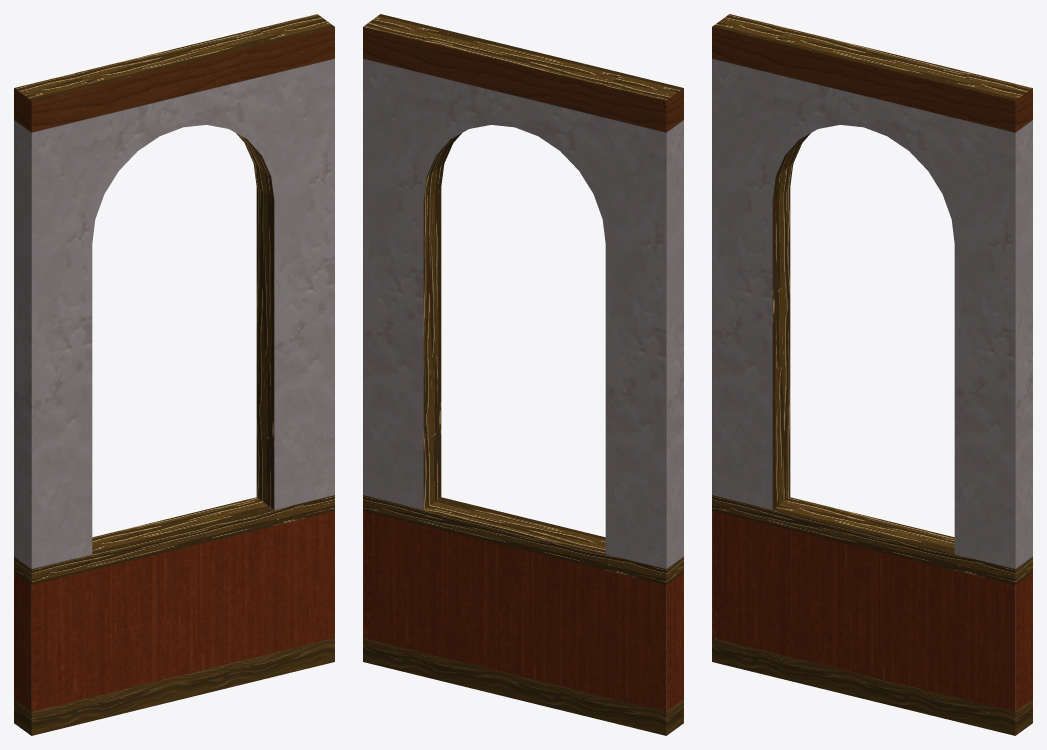
The model's file is SM_Wall_Window_Stone.fbx.
3 renders of one model, left to right at view 1: azimuth 30°, elevation 25°; view 2: azimuth 150°, elevation 25°; view 3: azimuth 330°, elevation 25°, orthographic.
Visible parts, largest first — view 1: SM_Wall_Window_Stone; view 2: SM_Wall_Window_Stone; view 3: SM_Wall_Window_Stone.
Boxes of the visible parts, bbox=[...] form: SM_Wall_Window_Stone: bbox=[14, 14, 334, 735]; SM_Wall_Window_Stone: bbox=[363, 14, 683, 735]; SM_Wall_Window_Stone: bbox=[712, 14, 1032, 735].
Bounding box in the file's own units: 2 × 4 × 0.2.
